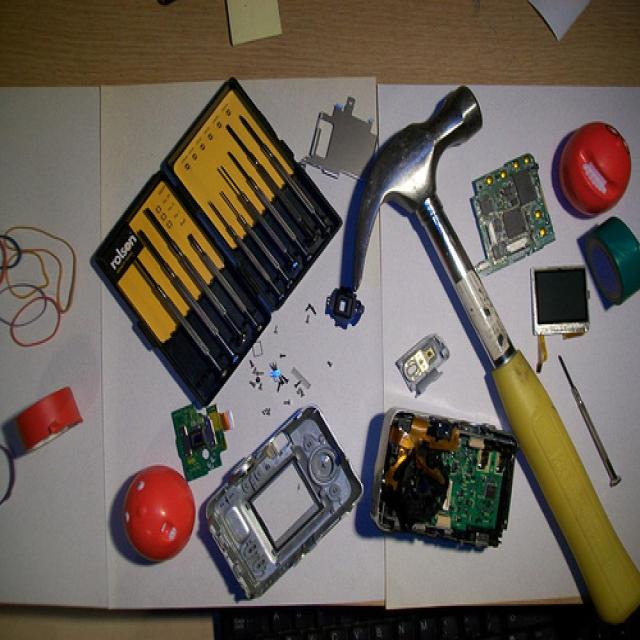hammer: (333, 55, 626, 509)
